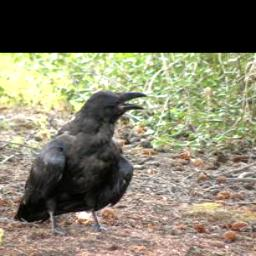Crow: (11, 89, 148, 238)
